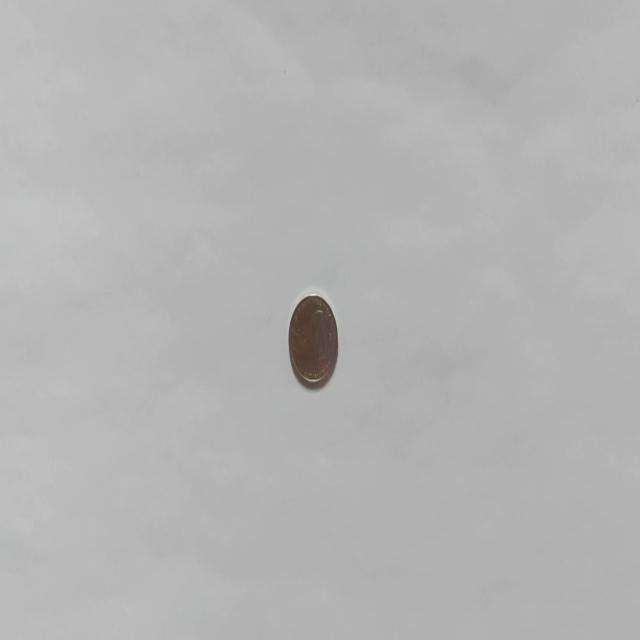seribu rupiah koin: (286, 288, 338, 388)
